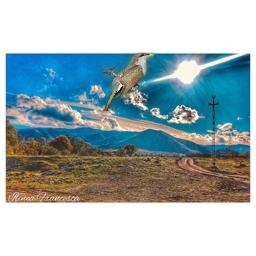Cuckoo: (104, 53, 155, 112)
